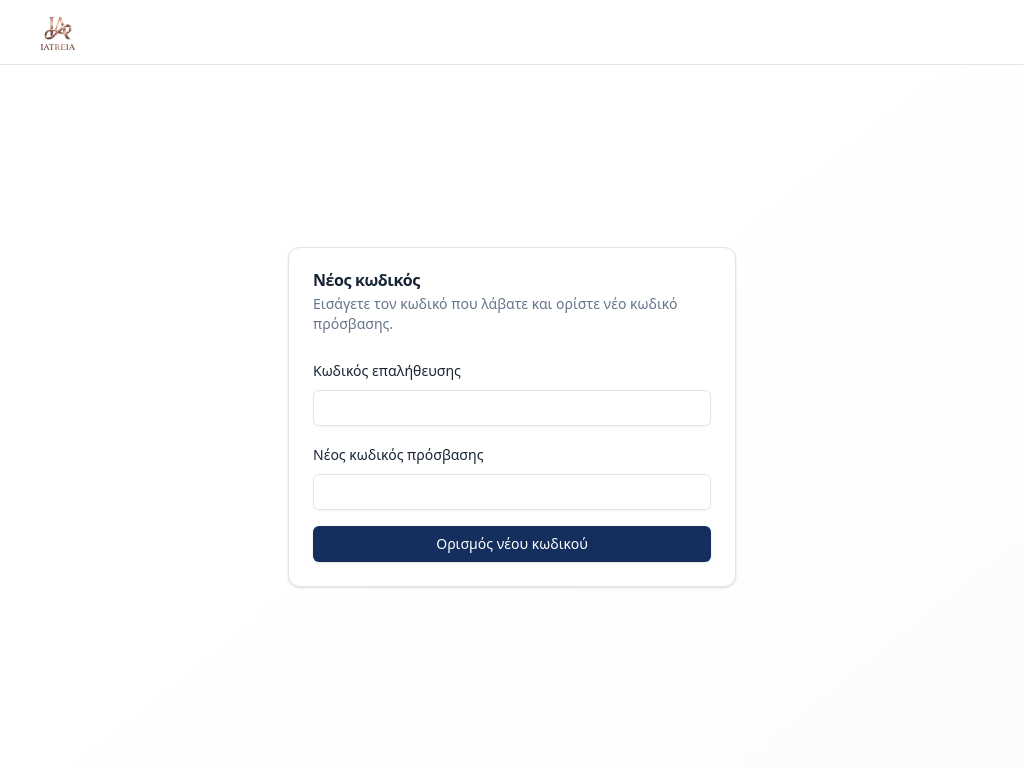
Test case: ResetPassword › shows an error message when attemptFirstFactor rejects
Type "000000" into the field labelled "Κωδικός επαλήθευσης".
click(512, 408); type("000000")  # box [313, 390, 711, 426]
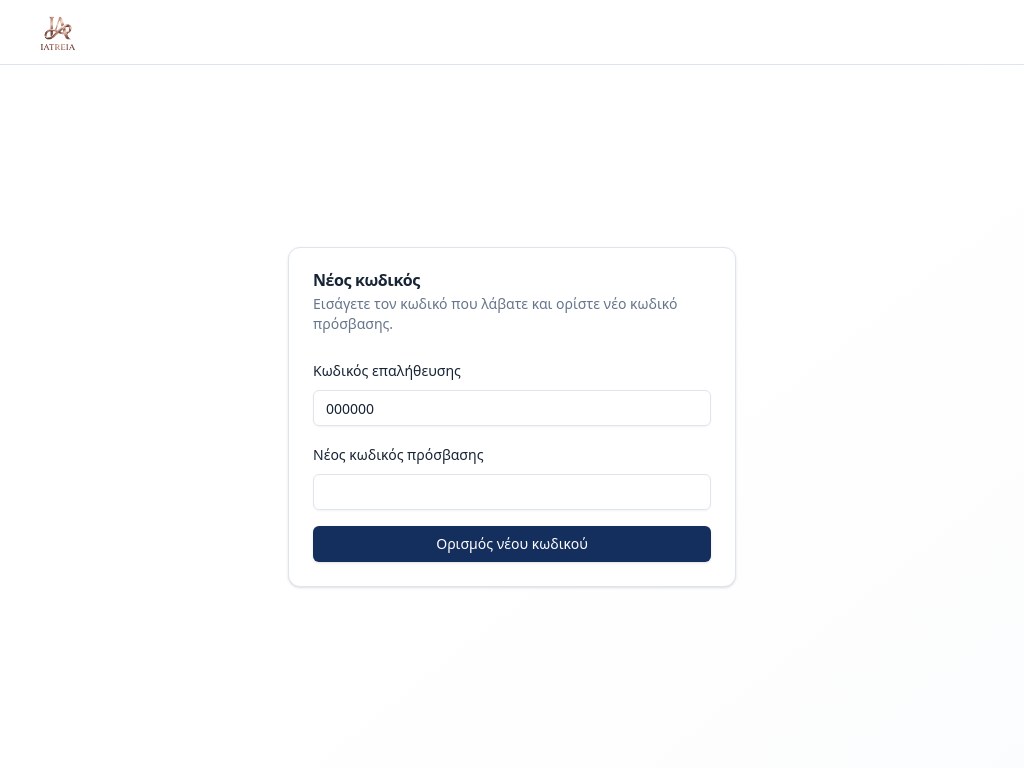
Type "newpassword" into the password field labelled "Νέος κωδικός πρόσβασης".
click(512, 492); type("newpassword")  # box [313, 474, 711, 510]
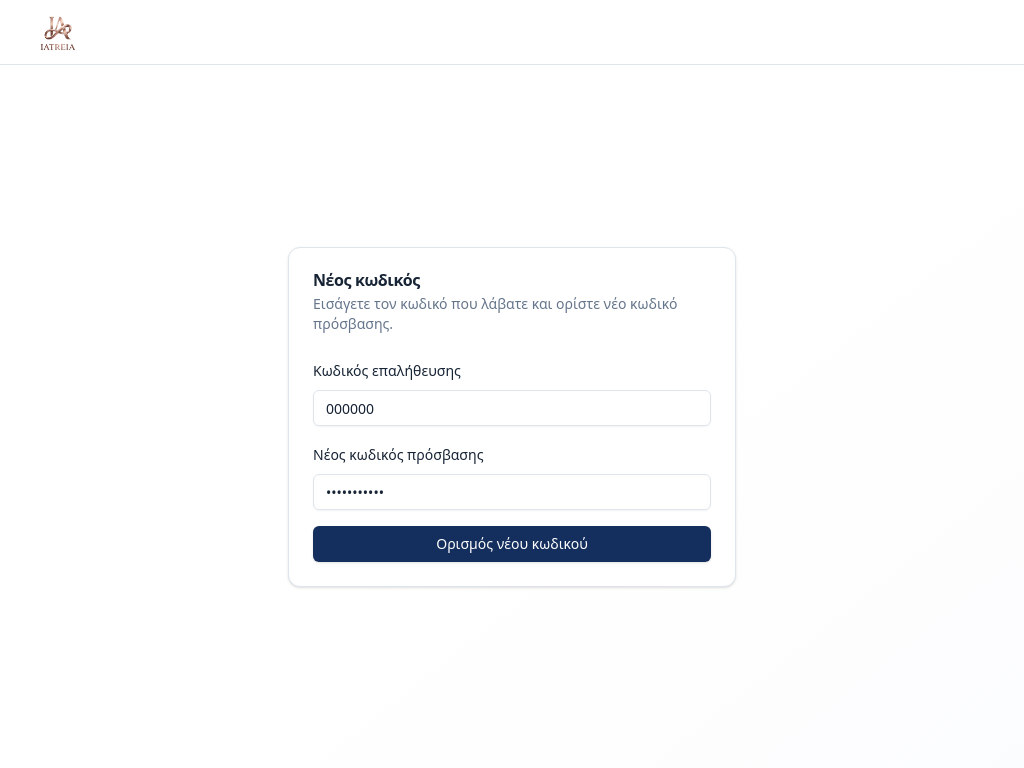
Click the button "Ορισμός νέου κωδικού".
click(512, 544)  # box [313, 526, 711, 562]
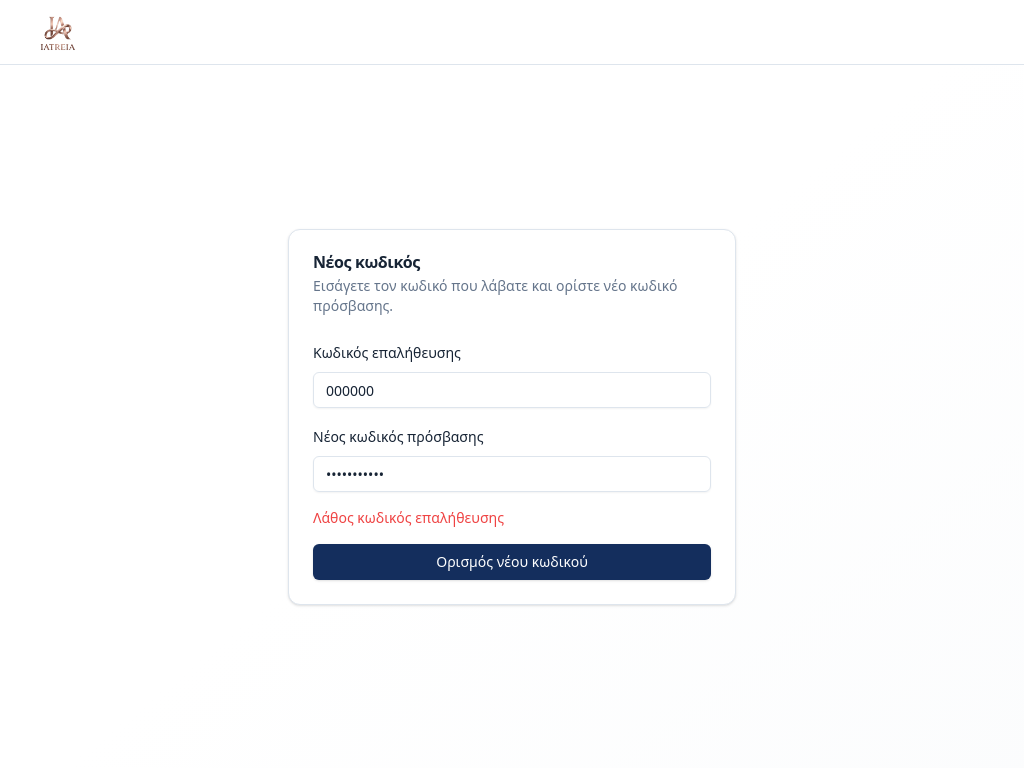
Result: the text "Λάθος κωδικός επαλήθευσης" is shown at [313, 508, 504, 527]
